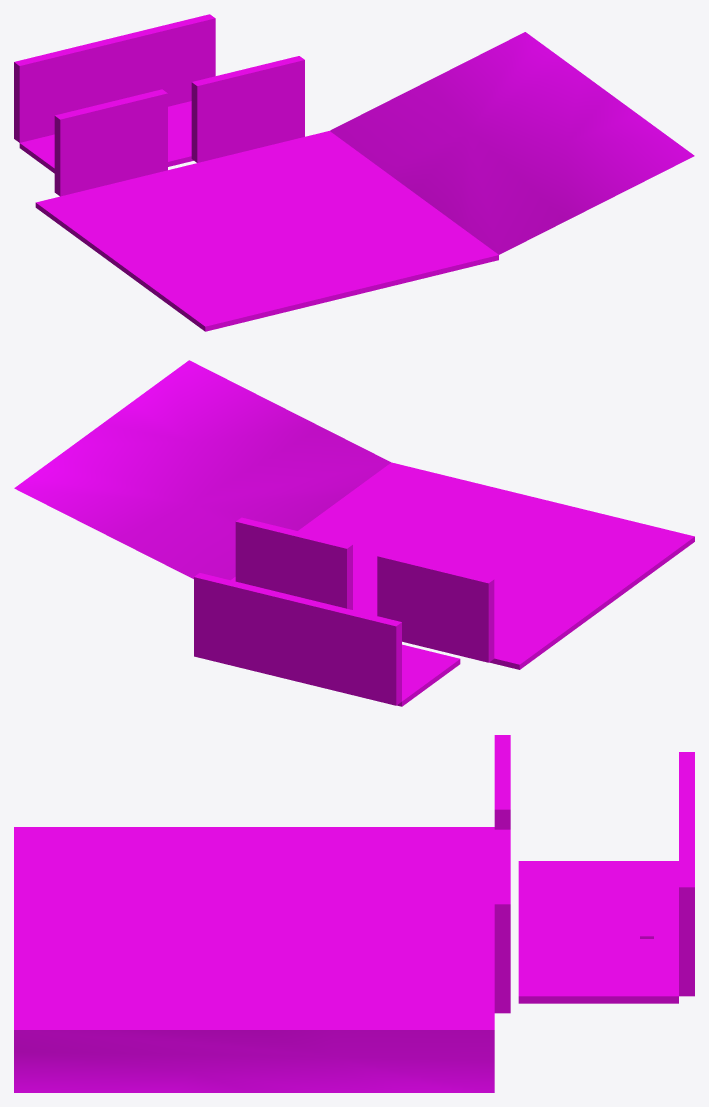
The model's file is proxy.glb.
3 views of the same model, one above another, from view 1: azimuth 30°, elevation 25°; view 2: azimuth 150°, elevation 25°; view 3: azimuth 270°, elevation 25° (orthographic). The views are drawn at different scales.
Parts seen in each view (by area): view 1: proxy_boxes, proxy_bank; view 2: proxy_boxes, proxy_bank; view 3: proxy_boxes, proxy_bank.
Part boxes in pixels (left/top/right/bottom): proxy_boxes: left=14, top=14, right=498, bottom=331; proxy_bank: left=330, top=32, right=694, bottom=254; proxy_boxes: left=194, top=462, right=694, bottom=706; proxy_bank: left=14, top=360, right=390, bottom=580; proxy_boxes: left=14, top=735, right=694, bottom=1029; proxy_bank: left=14, top=1030, right=494, bottom=1092.
Bounding box in the file's own units: 20 × 3.2 × 17.
